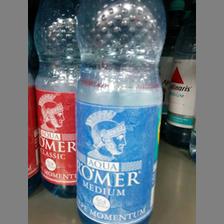water: (74, 2, 165, 224), (32, 1, 78, 195)
